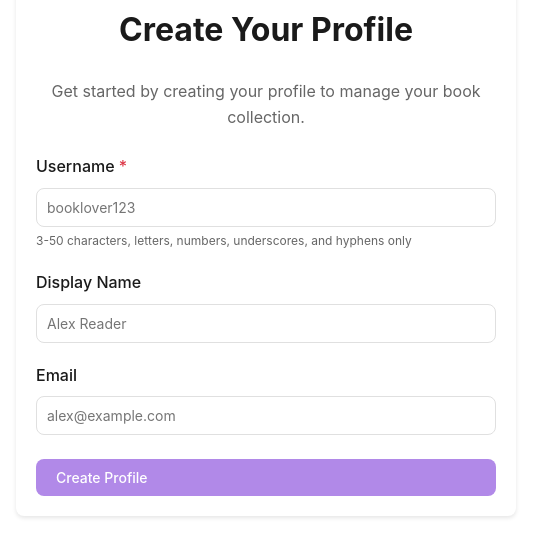
Scenario: ProfileSetup › should disable submit button while submitting
In the field labelled "Username *": (266, 208) [36,188,496,227], type "testuser"
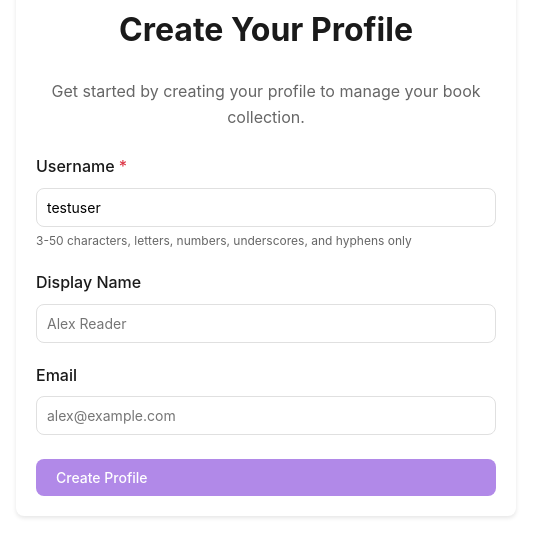
Click the button "Create Profile": (102, 478) [36,459,496,496]
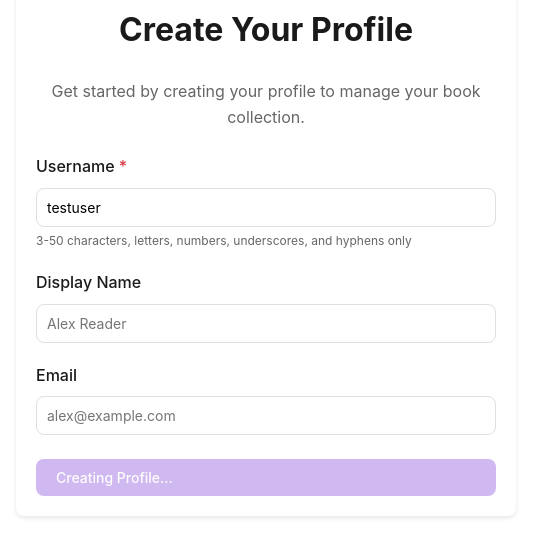
Now the button "Creating Profile..." is disabled, box [36,459,496,496]
